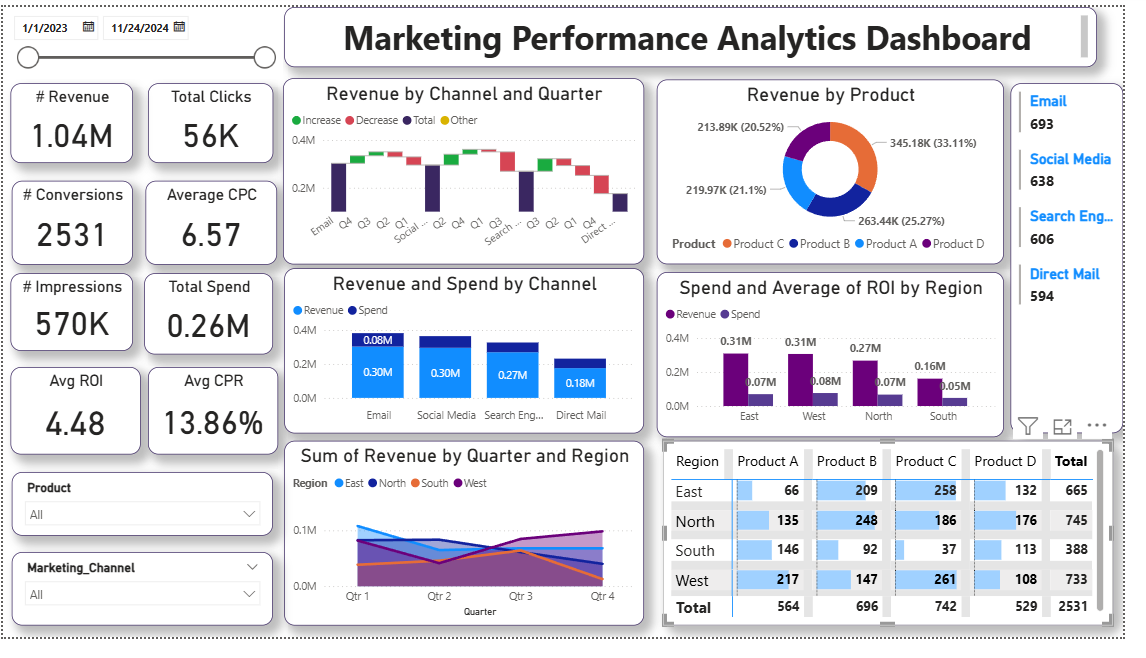

The page's visual inventory and layout, read from the dashboard file:
{"tool":"powerbi","page":{"name":"Page 1","canvas":[1280,720],"ordinal":0},"visuals":[{"type":"card","title":"Total Clicks","fields":{"Values":["Sum(Sheet1.Clicks)"]},"box":[165.7,87.1,142.9,91.4],"z":0},{"type":"card","title":"# Conversions","fields":{"Values":["Sum(Sheet1.Conversions)"]},"box":[10,198.6,138.6,95.7],"z":1000},{"type":"card","title":"Average CPC","fields":{"Values":["Avg(Sheet1.CPC)"]},"box":[162.9,198.6,150,95.7],"z":2000},{"type":"card","title":"# Impressions","fields":{"Values":["Sum(Sheet1.Impressions)"]},"box":[8.6,304.3,140,88.6],"z":3000},{"type":"card","title":"# Revenue","fields":{"Values":["Sum(Sheet1.Revenue)"]},"box":[8.6,87.1,140,91.4],"z":4000},{"type":"card","title":"Total Spend","fields":{"Values":["Sum(Sheet1.Spend)"]},"box":[161.4,304.3,147.1,92.9],"z":5000},{"type":"card","title":"Avg ROI","fields":{"Values":["Avg(Sheet1.ROI)"]},"box":[8.6,411.4,148.6,100],"z":6000},{"type":"card","title":"Avg CPR","fields":{"Values":["Avg(Sheet1.CTR)"]},"box":[165.7,411.4,148.6,100],"z":7000},{"type":"textbox","box":[321.4,0,928.6,68.6],"z":8000},{"type":"slicer","fields":{"Values":["Sheet1.Date"]},"box":[0,0,320,81.4],"z":9000},{"type":"waterfallChart","title":"Revenue by Channel and Quarter","fields":{"Category":["Sheet1.Marketing_Channel"],"Y":["Sum(Sheet1.Revenue)"],"Breakdown":["Sheet1.Quarter"]},"box":[320,81.4,412.9,212.9],"z":10000},{"type":"donutChart","title":"Revenue by Product","fields":{"Category":["Sheet1.Product"],"Y":["Sum(Sheet1.Revenue)"]},"box":[747.1,82.9,397.1,211.4],"z":11000},{"type":"columnChart","fields":{"Category":["Sheet1.Marketing_Channel"],"Y":["Sum(Sheet1.Revenue)","Sum(Sheet1.Spend)"]},"box":[321.4,298.6,411.4,188.6],"z":12000},{"type":"clusteredColumnChart","title":"Spend and Average of ROI by Region","fields":{"Y":["Sum(Sheet1.Revenue)","Sum(Sheet1.Spend)"],"Category":["Sheet1.Region"]},"box":[747.1,302.9,397.1,188.6],"z":13000},{"type":"areaChart","fields":{"Category":["Sheet1.Date.Variation.Date Hierarchy.Quarter"],"Y":["Sum(Sheet1.Revenue)"],"Series":["Sheet1.Region"]},"box":[321.4,495.7,411.4,211.4],"z":14000},{"type":"multiRowCard","fields":{"Values":["Sum(Sheet1.Conversions)","Sheet1.Marketing_Channel"]},"box":[1151.4,87.1,128.6,400],"z":15000},{"type":"pivotTable","fields":{"Rows":["Sheet1.Region"],"Columns":["Sheet1.Product"],"Values":["Sum(Sheet1.Conversions)"]},"box":[754.3,495.7,514.3,211.4],"z":16000},{"type":"slicer","fields":{"Values":["Sheet1.Product"]},"box":[10,531.4,298.6,72.9],"z":17000},{"type":"slicer","fields":{"Values":["Sheet1.Marketing_Channel"]},"box":[10,622.9,298.6,84.3],"z":18000}]}

Visuals, with their boxes in screenshot pixels (x1, y1, x2, y2), scaled from the page's 1280x720 canvas onto the 1146x658 screenshot:
"Total Clicks" card: <box>148,80,276,163</box>
"# Conversions" card: <box>9,181,133,269</box>
"Average CPC" card: <box>146,181,280,269</box>
"# Impressions" card: <box>8,278,133,359</box>
"# Revenue" card: <box>8,80,133,163</box>
"Total Spend" card: <box>145,278,276,363</box>
"Avg ROI" card: <box>8,376,141,467</box>
"Avg CPR" card: <box>148,376,281,467</box>
textbox: <box>288,0,1119,63</box>
slicer - Sheet1.Date: <box>0,0,286,74</box>
"Revenue by Channel and Quarter" waterfallChart: <box>286,74,656,269</box>
"Revenue by Product" donutChart: <box>669,76,1024,269</box>
columnChart - Sheet1.Marketing_Channel x Sum(Sheet1.Revenue): <box>288,273,656,445</box>
"Spend and Average of ROI by Region" clusteredColumnChart: <box>669,277,1024,449</box>
areaChart - Sheet1.Date.Variation.Date Hierarchy.Quarter x Sum(Sheet1.Revenue): <box>288,453,656,646</box>
multiRowCard - Sum(Sheet1.Conversions) x Sheet1.Marketing_Channel: <box>1031,80,1145,445</box>
pivotTable - Sheet1.Region x Sheet1.Product: <box>675,453,1136,646</box>
slicer - Sheet1.Product: <box>9,486,276,552</box>
slicer - Sheet1.Marketing_Channel: <box>9,569,276,646</box>
